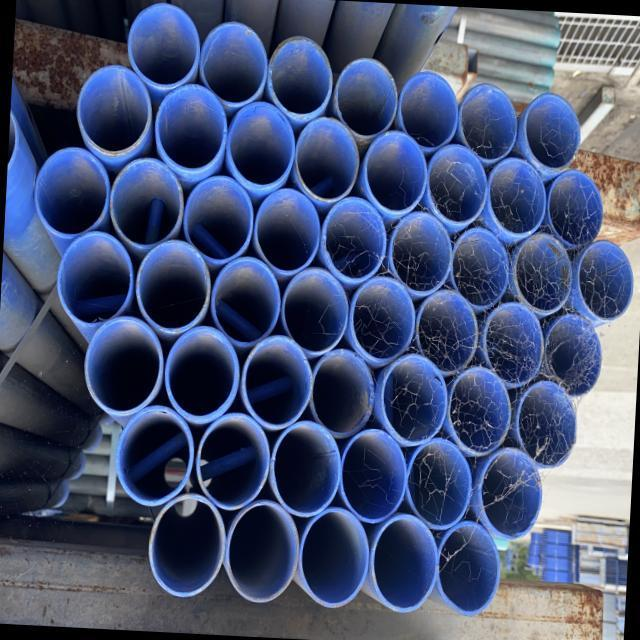pipe: (112, 402, 196, 510), (146, 492, 229, 600), (80, 314, 166, 418), (223, 497, 302, 606), (162, 322, 243, 427), (55, 228, 137, 330), (194, 409, 272, 514), (32, 144, 114, 242), (134, 238, 214, 338), (73, 63, 155, 160), (367, 510, 442, 616), (298, 505, 372, 610), (268, 418, 344, 520), (108, 156, 187, 253), (153, 81, 230, 178), (240, 333, 316, 431), (378, 351, 452, 450), (338, 426, 410, 527), (180, 172, 256, 267), (210, 253, 284, 349), (125, 1, 202, 93), (404, 436, 476, 533), (435, 518, 504, 618), (476, 444, 546, 542), (224, 100, 298, 192), (307, 347, 378, 442), (198, 19, 272, 110), (278, 266, 352, 356), (252, 186, 324, 278), (445, 363, 514, 458), (348, 274, 419, 366), (291, 114, 362, 206), (412, 287, 482, 378), (319, 193, 389, 284), (480, 299, 548, 390), (266, 34, 336, 122), (363, 128, 430, 218), (514, 380, 580, 471), (386, 210, 454, 298), (332, 56, 400, 143), (424, 142, 490, 229), (510, 231, 576, 318), (542, 312, 604, 402), (456, 81, 520, 168), (396, 70, 461, 155), (449, 226, 512, 312), (484, 156, 548, 240), (575, 238, 637, 324), (545, 168, 606, 251), (522, 94, 583, 174)
